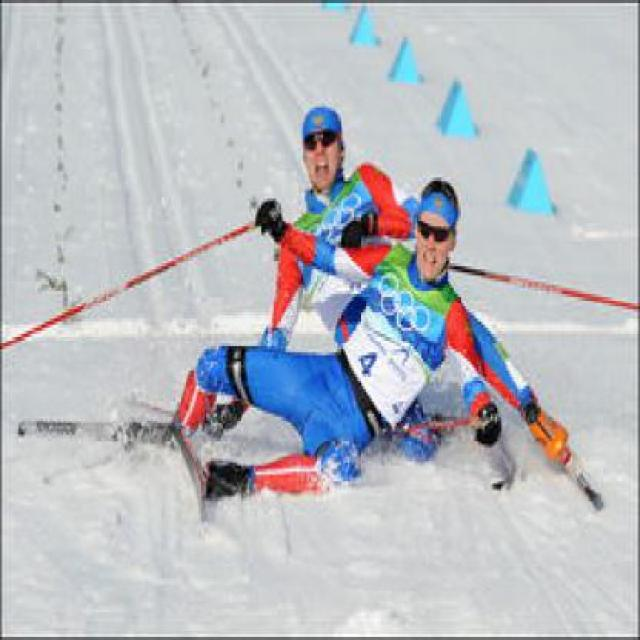fall: (220, 89, 415, 343)
